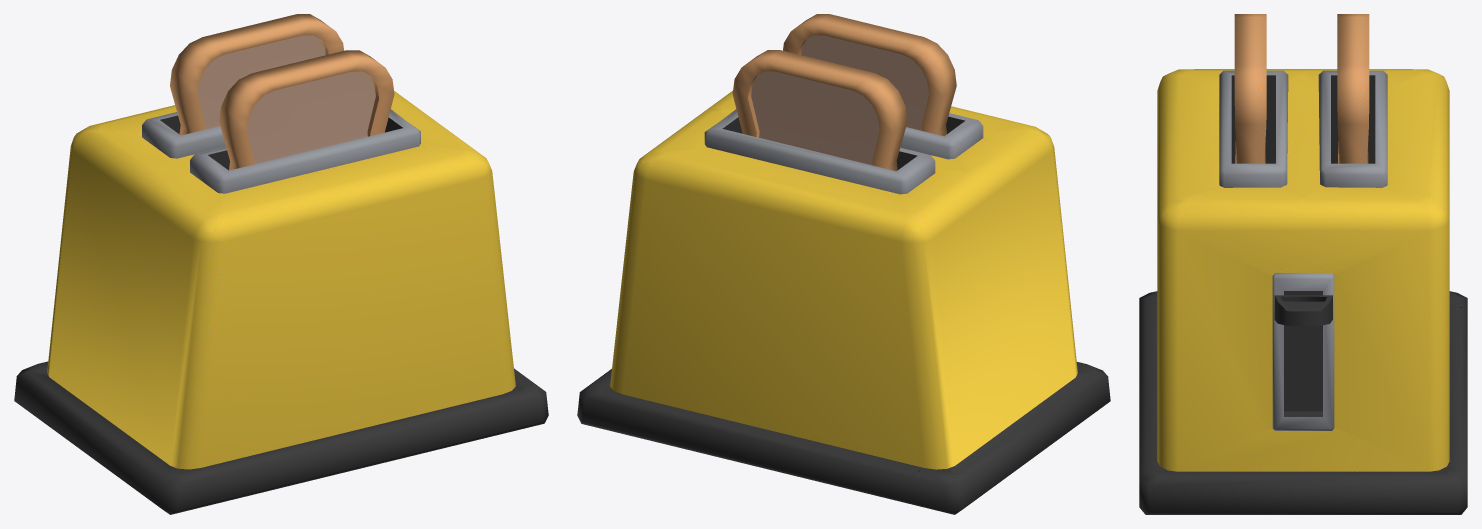
The model's file is Toaster.fbx.
The picture shows the model from 3 angles, left to right: view 1: azimuth 30°, elevation 25°; view 2: azimuth 150°, elevation 25°; view 3: azimuth 270°, elevation 25°; orthographic projection. The views are drawn at different scales.
Parts seen in each view (by area): view 1: Toaster, Bread_1, Bread_2; view 2: Toaster, Bread_2, Bread_1; view 3: Toaster, Bread_2, Bread_1, Handle.
Boxes of the visible parts, x1,y1,x2,y2 form: Toaster: (14,91,548,514); Bread_1: (219,50,394,170); Bread_2: (170,14,343,135); Toaster: (577,91,1110,514); Bread_2: (732,50,907,171); Bread_1: (783,14,956,136); Toaster: (1139,69,1467,514); Bread_2: (1337,14,1369,163); Bread_1: (1234,14,1266,163); Handle: (1274,295,1332,325).
Size of the model in its own units: 0.6606 by 0.595 by 0.4676.
